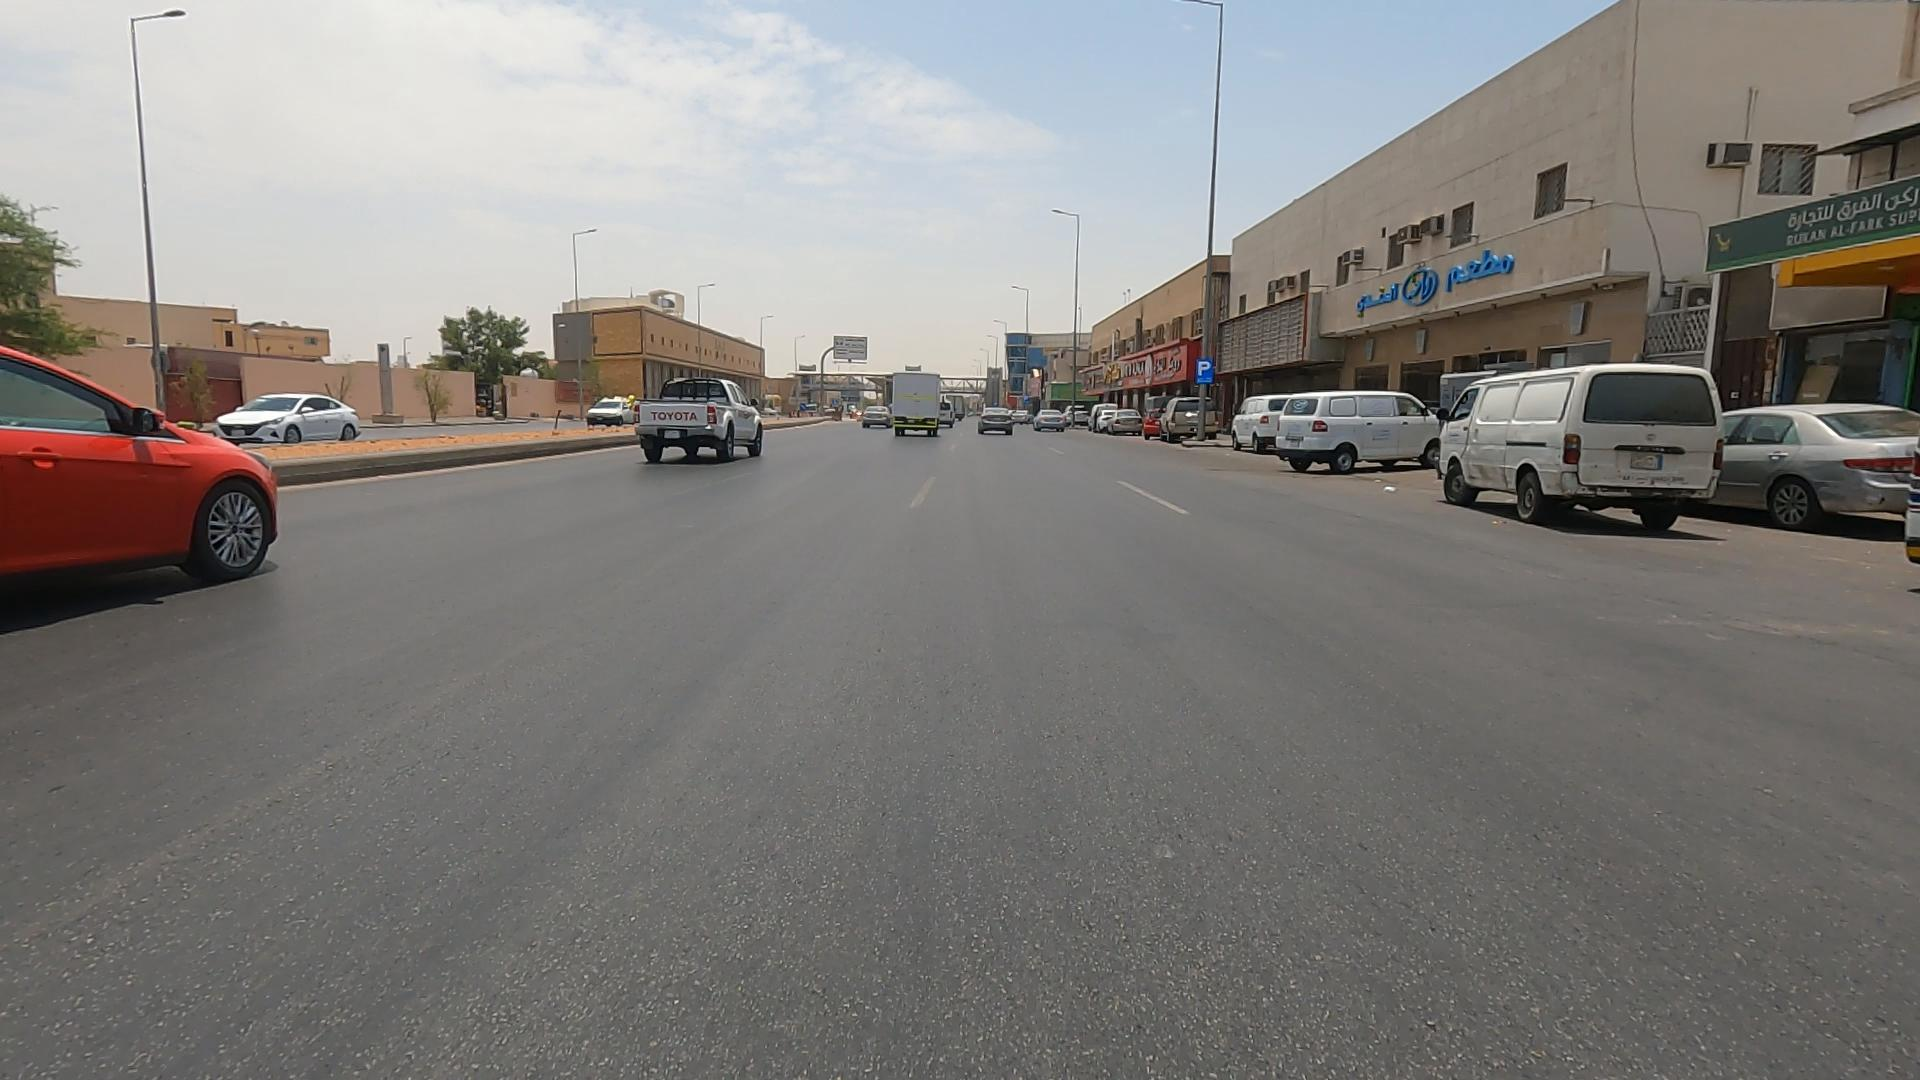BAD_BILLBOARD: (1111, 259, 1426, 416)
